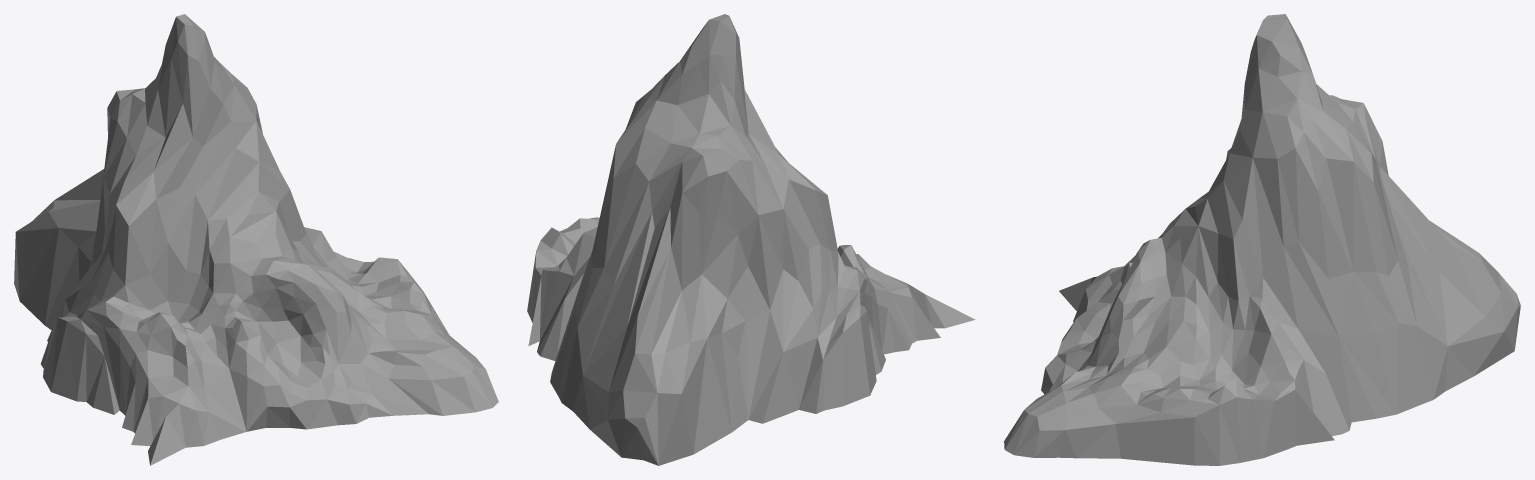
Rendered from mountains_002.glb.
3 renders of one model, left to right at view 1: azimuth 30°, elevation 25°; view 2: azimuth 150°, elevation 25°; view 3: azimuth 270°, elevation 25°, orthographic. The views are drawn at different scales.
Parts seen in each view (by area): view 1: mountains_002; view 2: mountains_002; view 3: mountains_002.
Boxes of the visible parts, x1,y1,x2,y2 form: mountains_002: (14, 14, 498, 465); mountains_002: (527, 14, 975, 465); mountains_002: (1004, 14, 1520, 465).
Size of the model in its own units: 53.73 by 49.42 by 67.03.
Materials: 1 (1 with a texture image).
